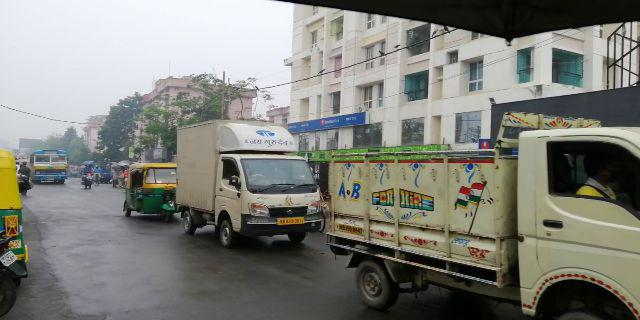Autorickshaw: (129, 163, 175, 218)
Bus: (343, 131, 636, 310), (30, 148, 73, 183)
Minitruck: (177, 121, 325, 245)
